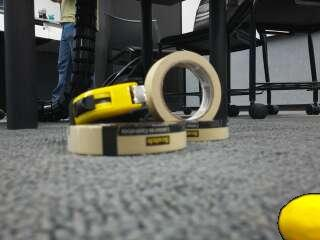lemon: (280, 195, 320, 240)
